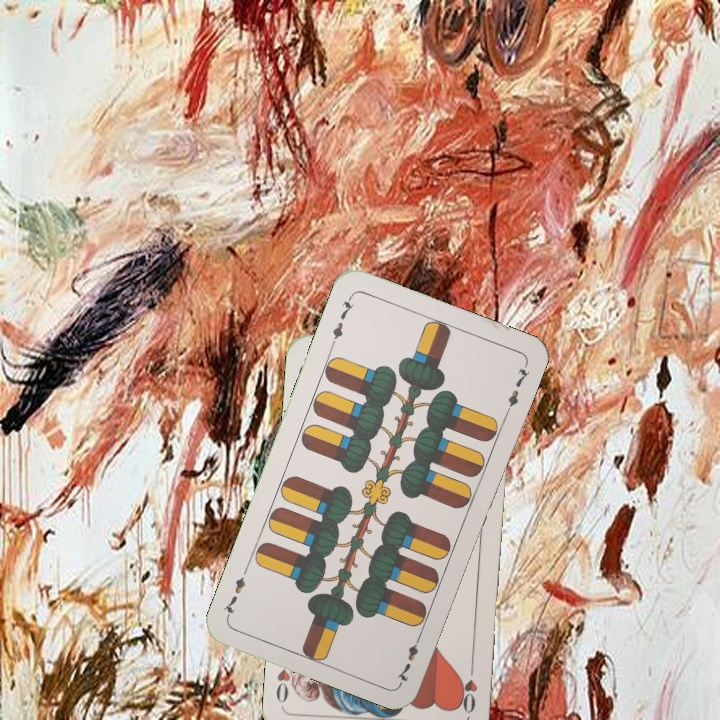E7: (392, 629, 425, 686), (327, 292, 358, 349)
HO: (455, 658, 480, 716)
